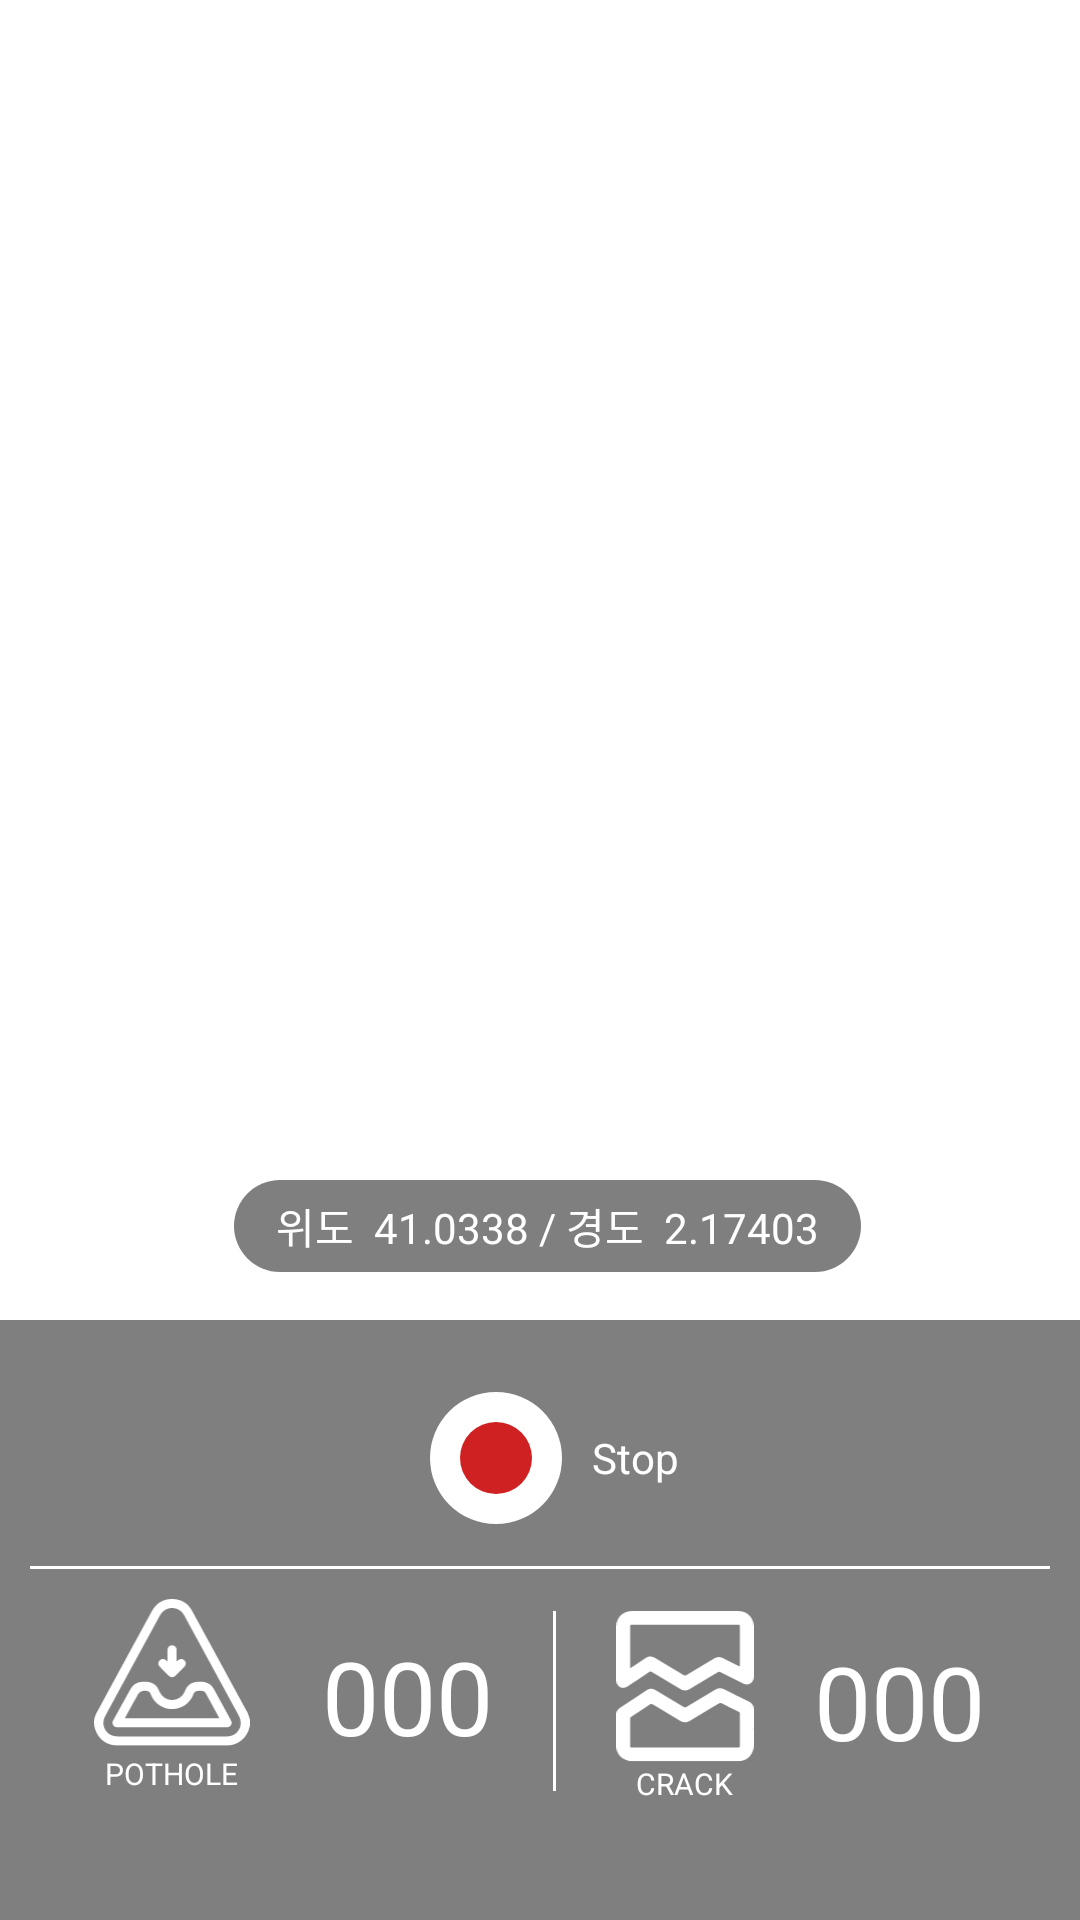

Icon click points for this 1080x1920 phone screenshot, format (x=x, y=y):
rec: (x=496, y=1458)
